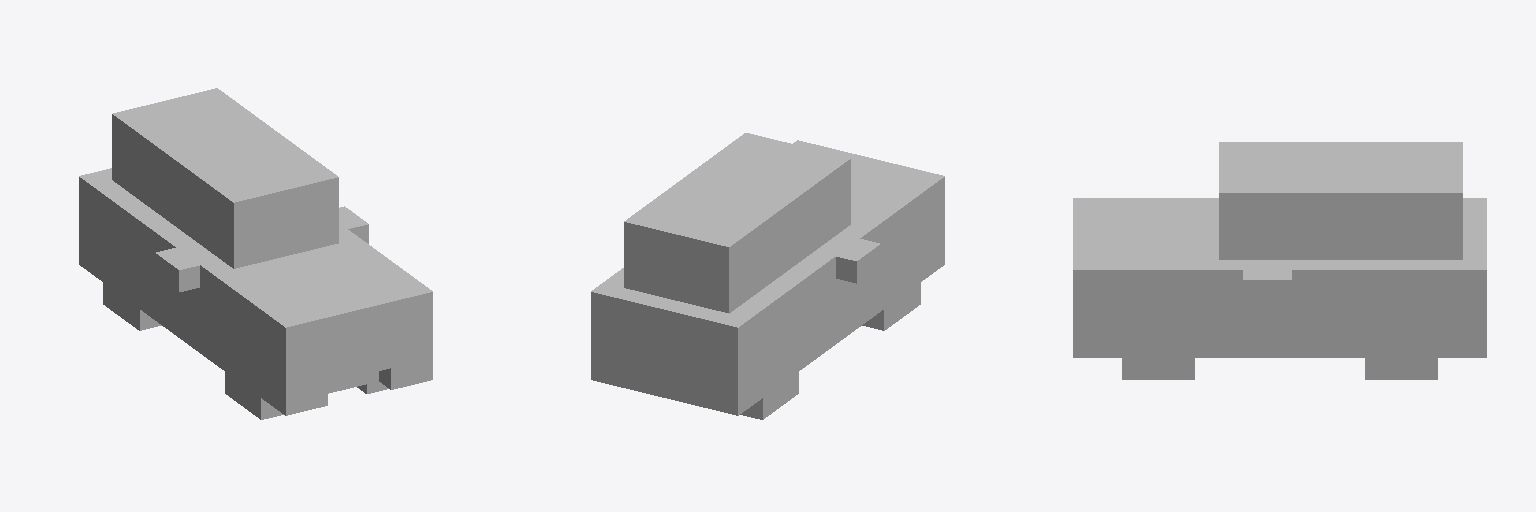
The picture shows the model from 3 angles: view 1: azimuth 30°, elevation 25°; view 2: azimuth 150°, elevation 25°; view 3: azimuth 270°, elevation 25°; orthographic projection.
Parts seen in each view (by area): view 1: Shaggen_wagon; view 2: Shaggen_wagon; view 3: Shaggen_wagon.
Part boxes in pixels (left/top/right/bottom): Shaggen_wagon: left=79, top=88, right=432, bottom=419; Shaggen_wagon: left=591, top=133, right=944, bottom=419; Shaggen_wagon: left=1073, top=142, right=1486, bottom=379.
Bounding box in the file's own units: 1.08 × 0.96 × 2.04.